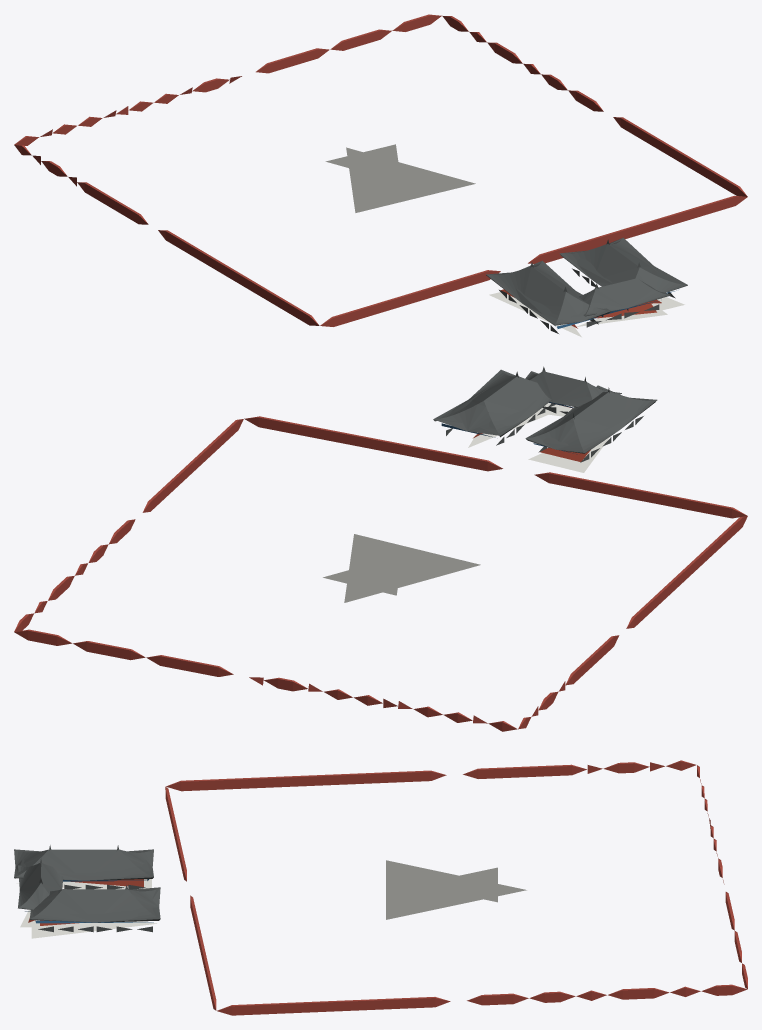
Rendered from ditan-far-32b52a2d64.glb.
The picture shows the model from 3 angles, top to bottom: view 1: azimuth 30°, elevation 25°; view 2: azimuth 150°, elevation 25°; view 3: azimuth 270°, elevation 25°; orthographic projection. The views are drawn at different scales.
Parts seen in each view (by area): view 1: ditan coarse.001; view 2: ditan coarse.001; view 3: ditan coarse.001.
Part boxes in pixels (left/top/right/bottom): ditan coarse.001: left=14, top=14, right=747, bottom=337; ditan coarse.001: left=14, top=366, right=747, bottom=731; ditan coarse.001: left=14, top=760, right=747, bottom=1015.
Size of the model in its own units: 144 by 11 by 182.
